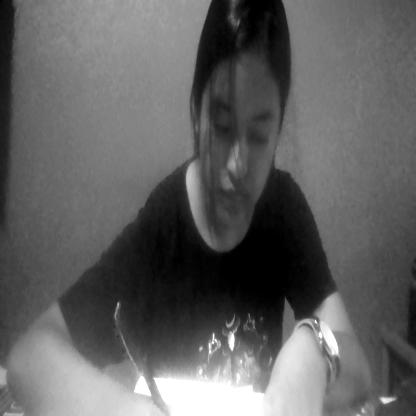Normal: (192, 0, 285, 232)
